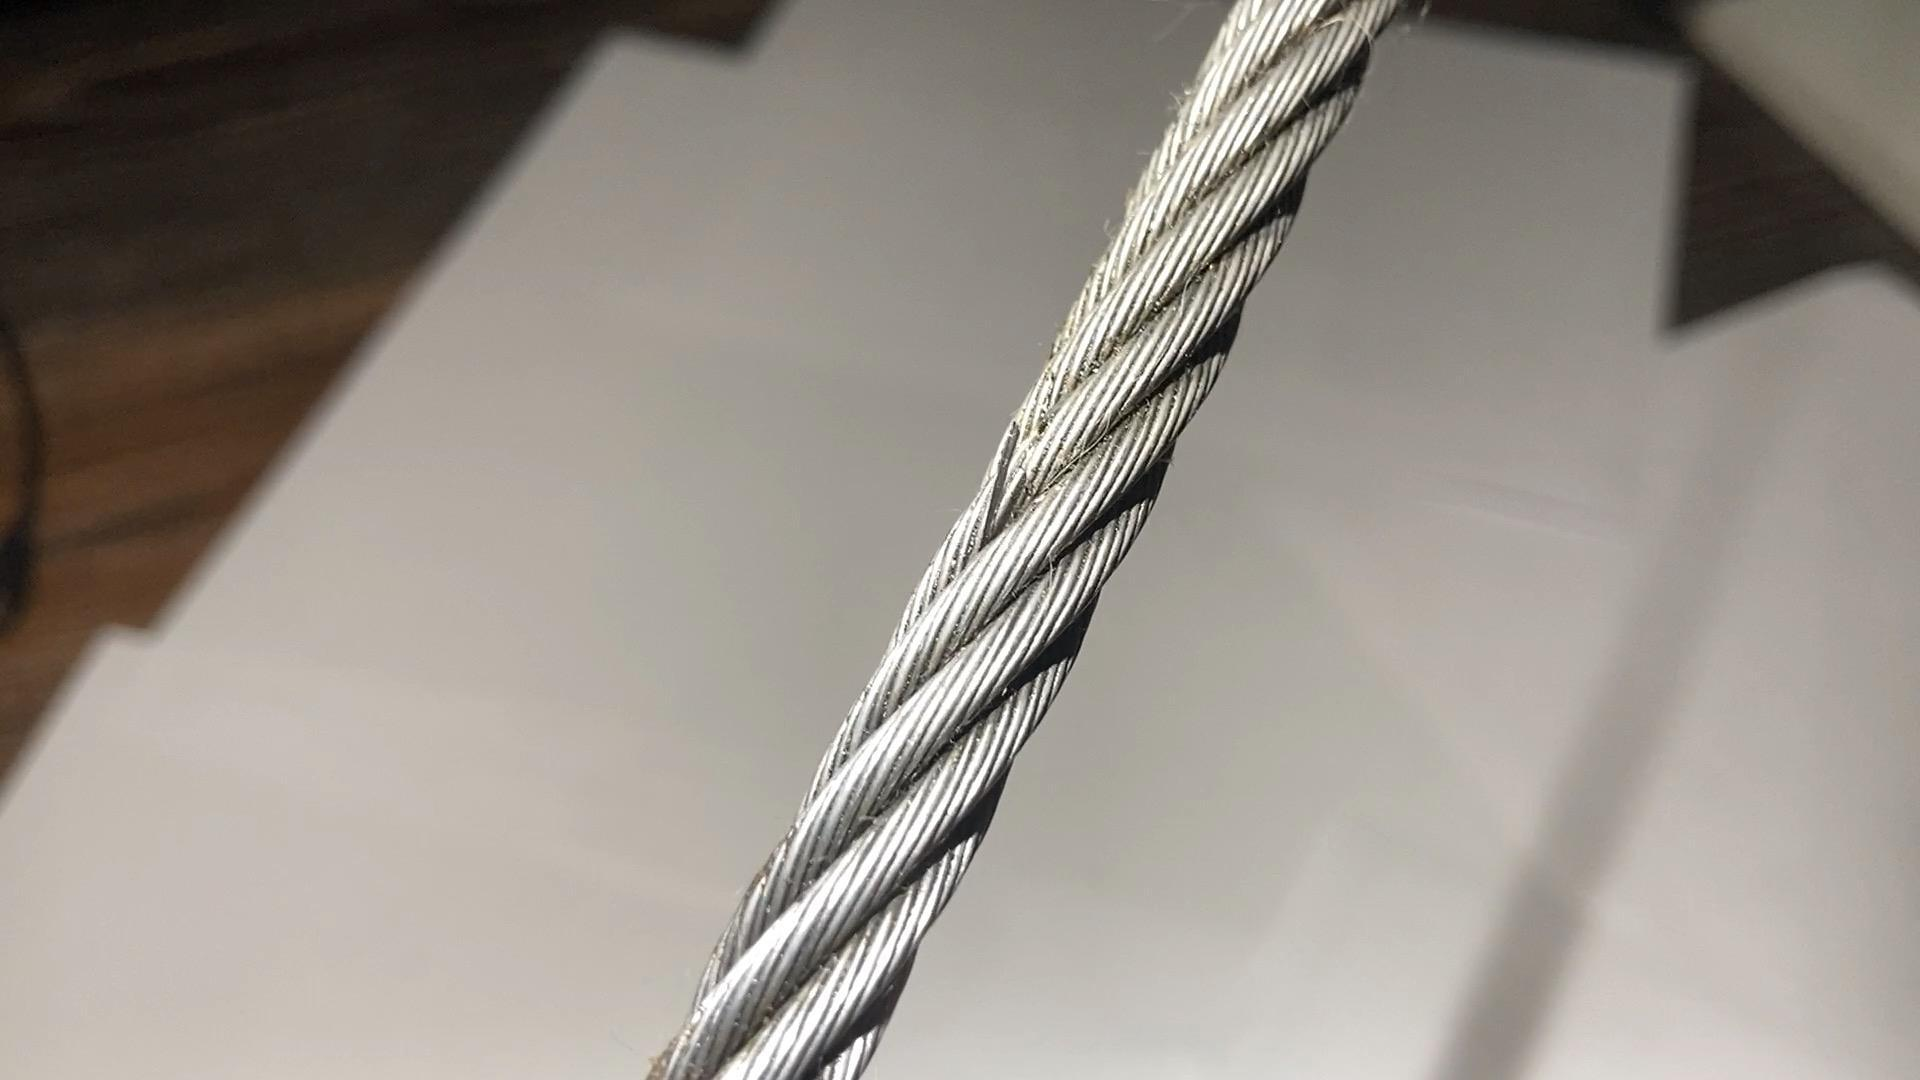break: (961, 417, 1034, 524)
